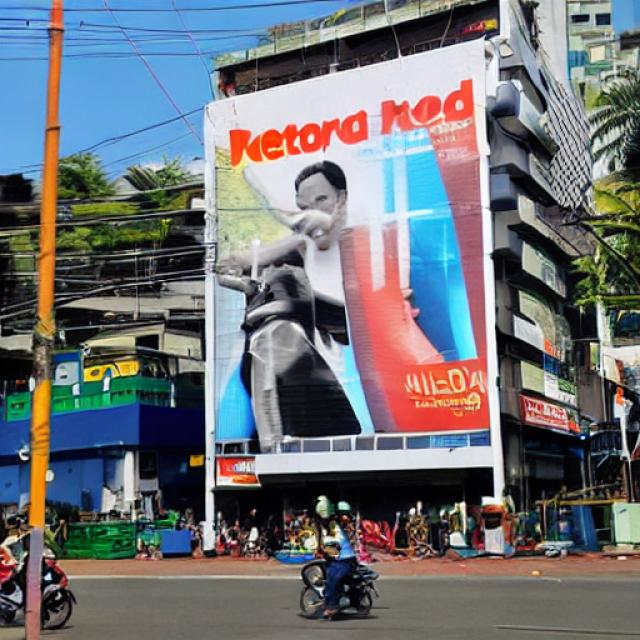Billboard: (202, 36, 497, 459)
